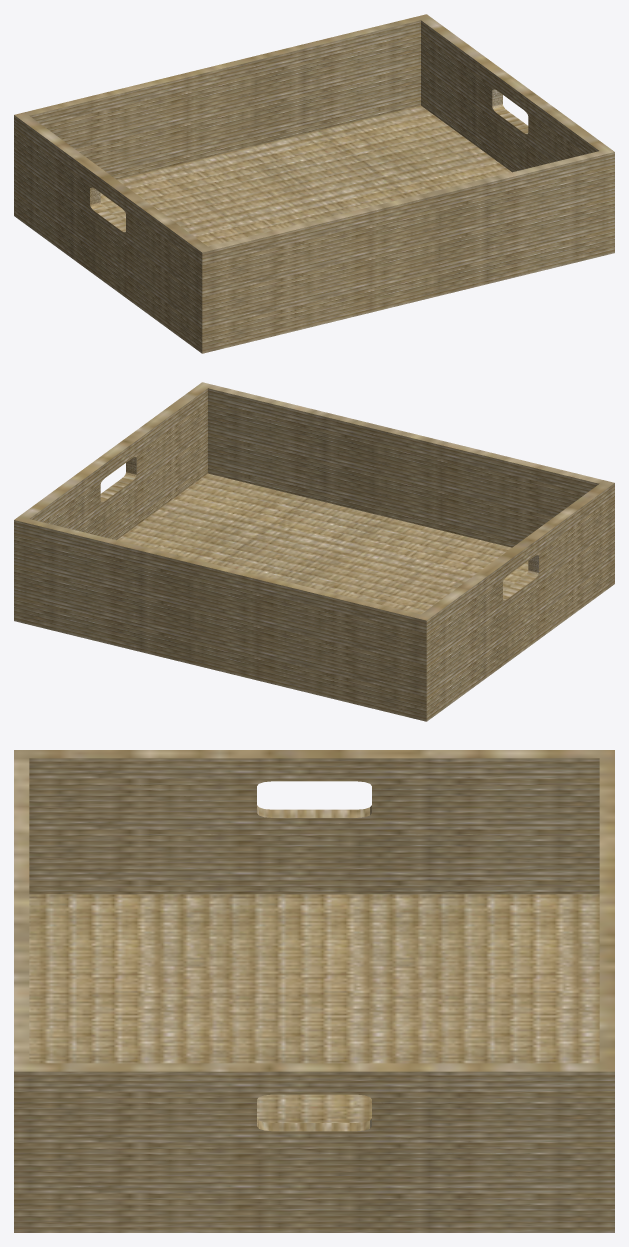
File: WickerBasket.fbx
The picture shows the model from 3 angles, top to bottom: view 1: azimuth 30°, elevation 25°; view 2: azimuth 150°, elevation 25°; view 3: azimuth 270°, elevation 25°; orthographic projection. The views are drawn at different scales.
Visible parts, largest first — view 1: WickerBasket; view 2: WickerBasket; view 3: WickerBasket.
Part boxes in pixels (x1=…): WickerBasket: x1=14, y1=14, x2=614, y2=353; WickerBasket: x1=14, y1=382, x2=614, y2=721; WickerBasket: x1=14, y1=750, x2=614, y2=1232.
Bounding box in the file's own units: 63.29 × 14.82 × 50.
